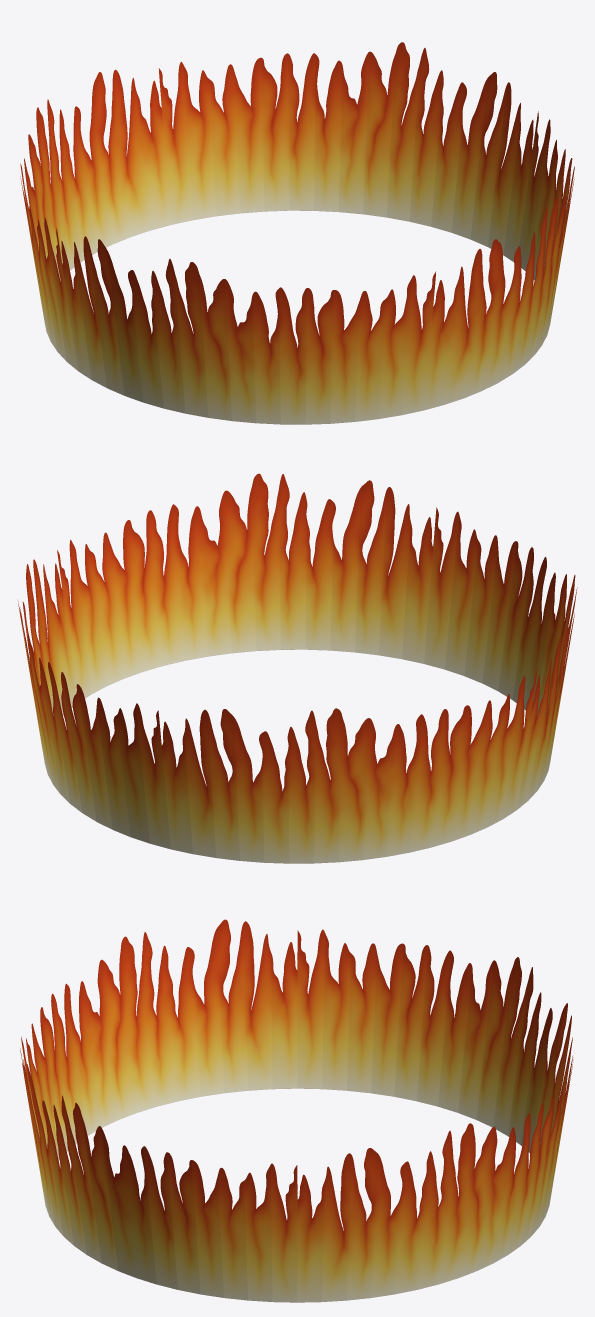
Rendered from FireRing.fbx.
The picture shows the model from 3 angles, top to bottom: view 1: azimuth 30°, elevation 25°; view 2: azimuth 150°, elevation 25°; view 3: azimuth 270°, elevation 25°; orthographic projection.
Visible parts, largest first — view 1: FireRing; view 2: FireRing; view 3: FireRing.
Boxes of the visible parts, box(x1,y1,x2,y2) form: FireRing: box(20, 42, 574, 424); FireRing: box(18, 473, 577, 863); FireRing: box(20, 919, 573, 1302).
Bounding box in the file's own units: 2.24 × 0.8 × 2.24.
Materials: 1 (1 with a texture image).
